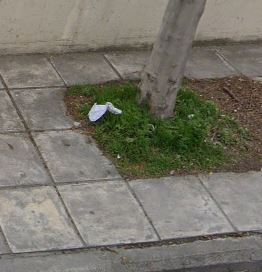trash: (78, 98, 127, 128)
